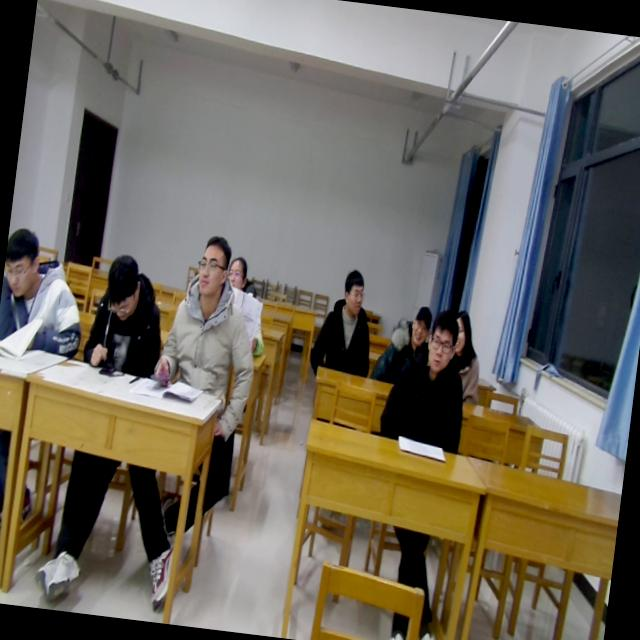bow: (0, 223, 95, 364)
down: (98, 244, 146, 322), (0, 222, 44, 304)
lookup: (191, 230, 233, 302), (422, 306, 461, 372), (404, 298, 438, 344), (224, 253, 252, 294)
sit: (148, 229, 270, 399), (376, 302, 477, 449), (80, 248, 172, 382), (306, 264, 379, 378), (368, 298, 436, 388), (217, 254, 274, 360), (441, 306, 489, 406)
